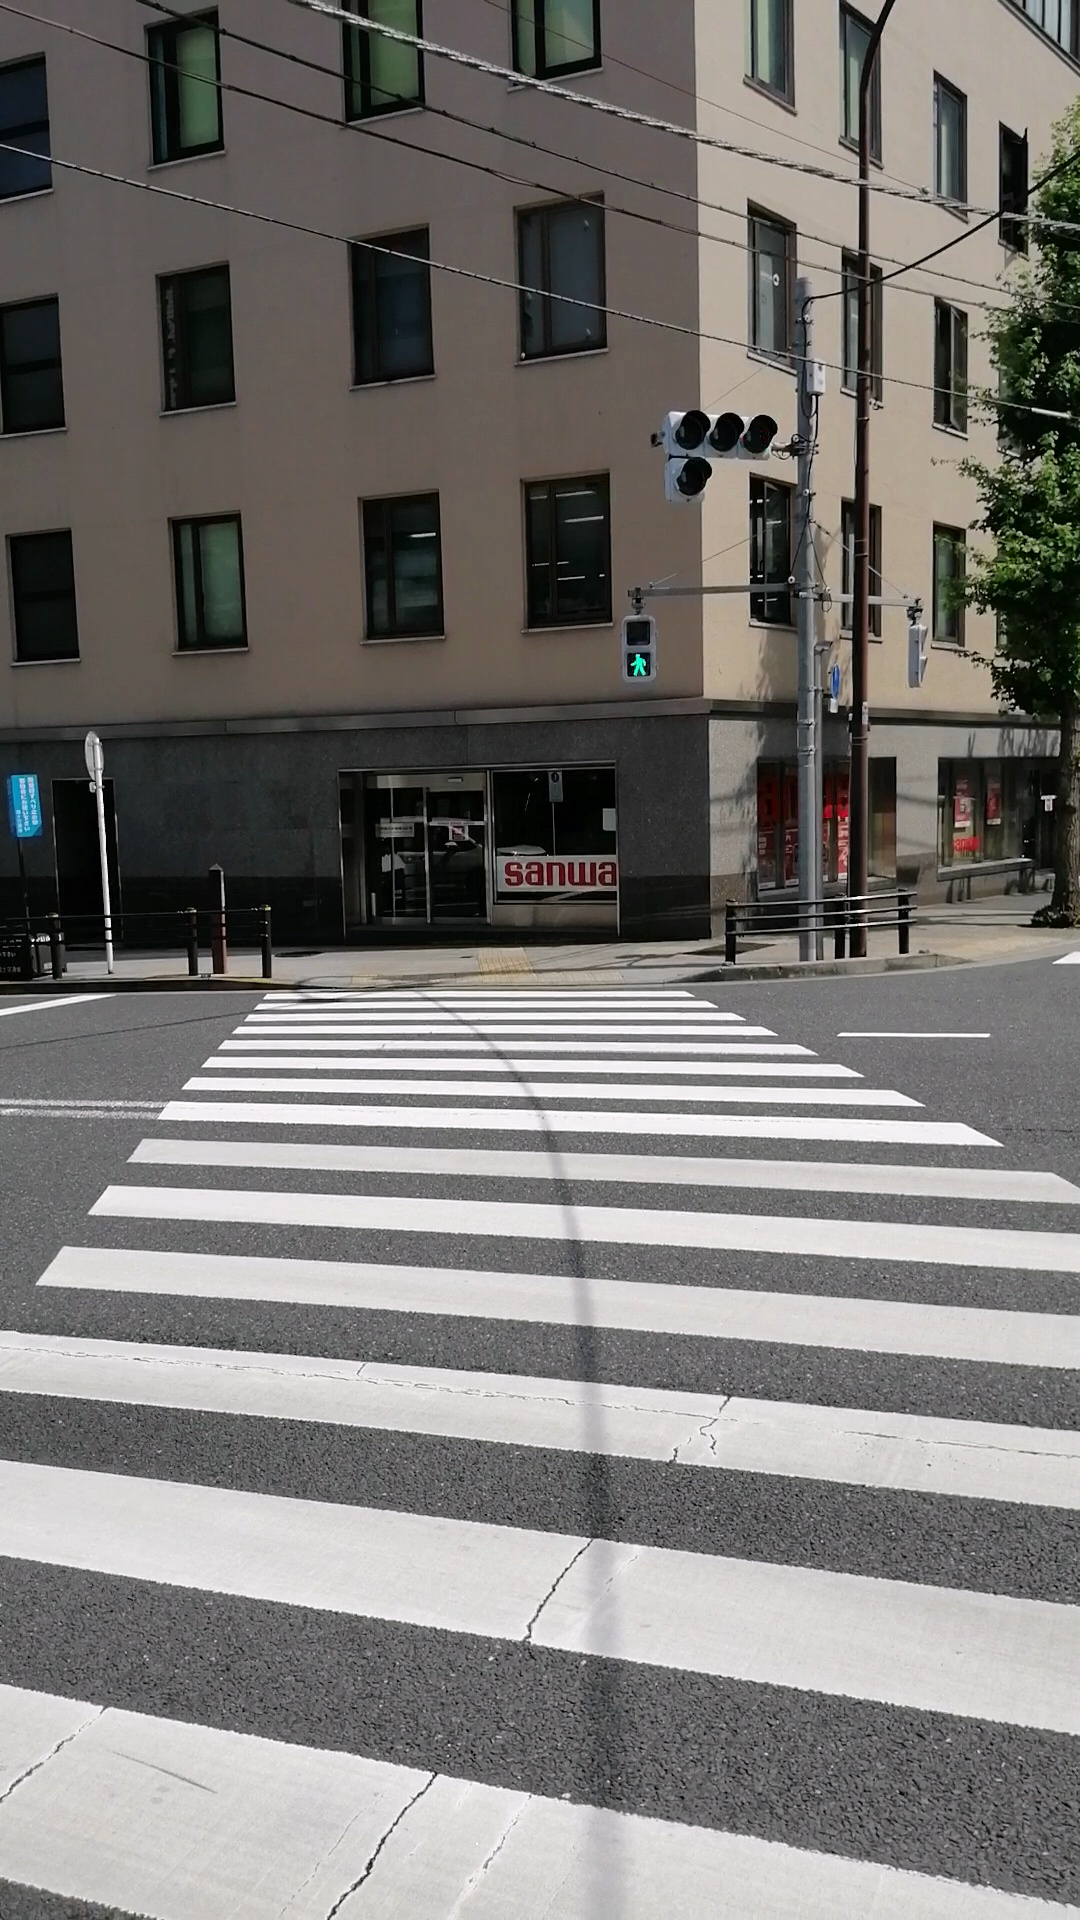green: (618, 613, 659, 682)
